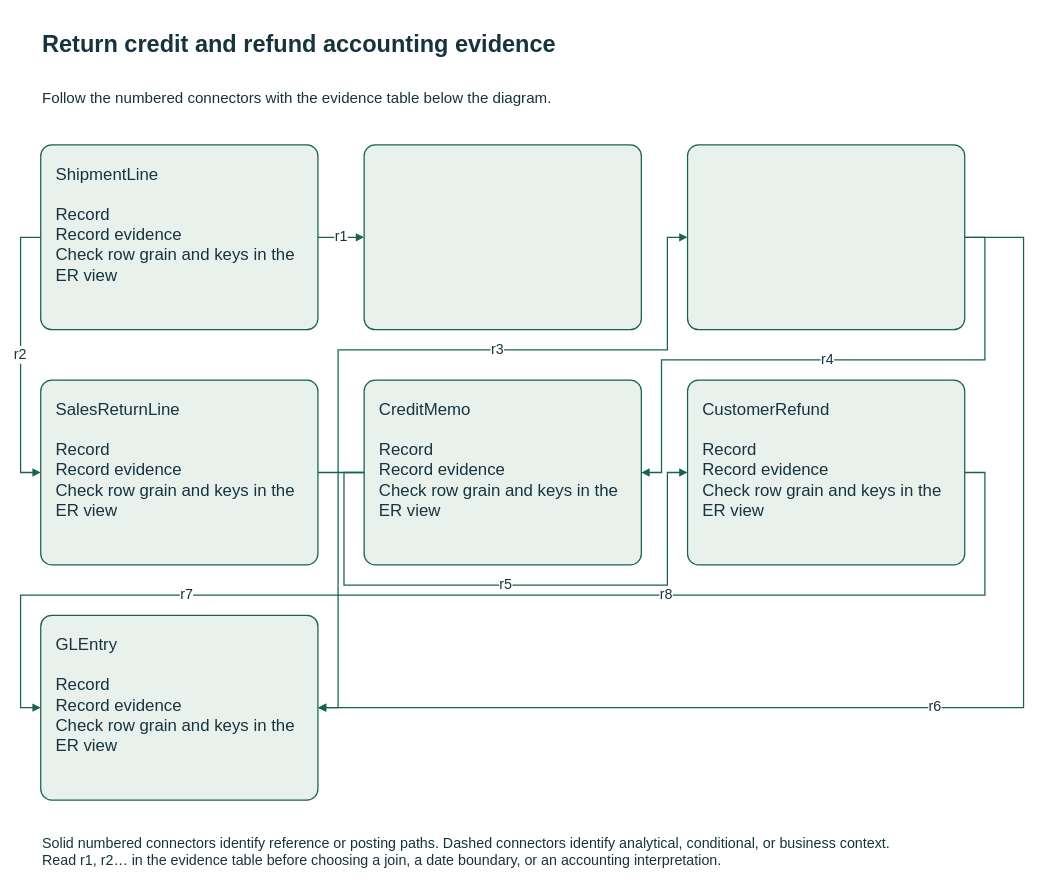
Image size: 1046x891. Some labels were removed from this diagram. The shapes that lost their labels are listed below. From the top down, each one's centre as x and y in pixels, then its label:
At pixel 502 237: "SalesInvoiceLine Record Record evidence Check row grain and keys in the ER view".
At pixel 826 237: "SalesReturn Record Record evidence Check row grain and keys in the ER view".
